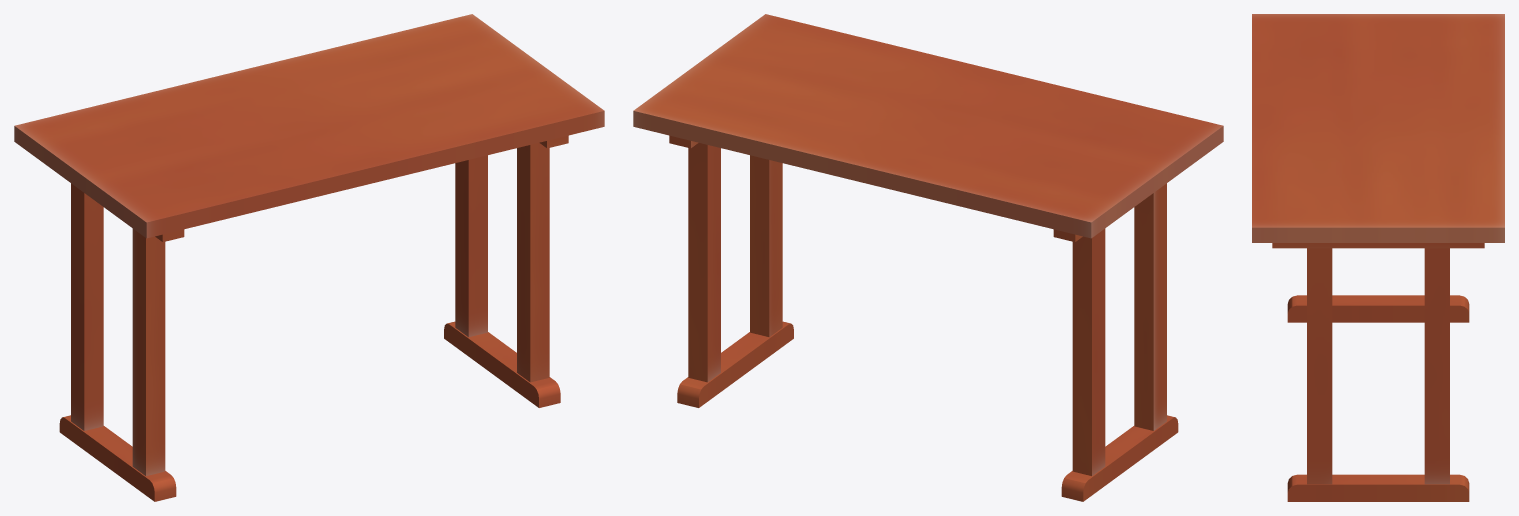
The model's file is table.obj.
The picture shows the model from 3 angles, left to right: view 1: azimuth 30°, elevation 25°; view 2: azimuth 150°, elevation 25°; view 3: azimuth 270°, elevation 25°; orthographic projection. The views are drawn at different scales.
Visible parts, largest first — view 1: _Table1:group1 group62 _Table1:pCube1, _Table1:group1 group62 _Table1:pCube11, _Table1:group1 group62 _Table1:pCube2, _Table1:group1 group62 _Table1:pCube12, _Table1:pCube3 _Table1:group1 group62, _Table1:group1 group62 _Table1:pCube13, _Table1:group1 group62 _Table1:pCube10; view 2: _Table1:group1 group62 _Table1:pCube1, _Table1:group1 group62 _Table1:pCube12, _Table1:pCube3 _Table1:group1 group62, _Table1:group1 group62 _Table1:pCube11, _Table1:group1 group62 _Table1:pCube2, _Table1:group1 group62 _Table1:pCube13, _Table1:group1 group62 _Table1:pCube10; view 3: _Table1:group1 group62 _Table1:pCube1, _Table1:pCube3 _Table1:group1 group62, _Table1:group1 group62 _Table1:pCube2, _Table1:group1 group62 _Table1:pCube10, _Table1:group1 group62 _Table1:pCube13, _Table1:group1 group62 _Table1:pCube8.
Boxes of the visible parts, bbox=[...] form: _Table1:group1 group62 _Table1:pCube1: bbox=[14, 14, 604, 238]; _Table1:group1 group62 _Table1:pCube11: bbox=[132, 228, 165, 475]; _Table1:group1 group62 _Table1:pCube2: bbox=[517, 143, 549, 382]; _Table1:group1 group62 _Table1:pCube12: bbox=[71, 183, 103, 430]; _Table1:pCube3 _Table1:group1 group62: bbox=[455, 155, 487, 337]; _Table1:group1 group62 _Table1:pCube13: bbox=[59, 415, 176, 501]; _Table1:group1 group62 _Table1:pCube10: bbox=[444, 321, 560, 407]; _Table1:group1 group62 _Table1:pCube1: bbox=[633, 14, 1223, 238]; _Table1:group1 group62 _Table1:pCube12: bbox=[1072, 228, 1105, 475]; _Table1:pCube3 _Table1:group1 group62: bbox=[688, 143, 720, 382]; _Table1:group1 group62 _Table1:pCube11: bbox=[1134, 183, 1166, 430]; _Table1:group1 group62 _Table1:pCube2: bbox=[750, 155, 782, 337]; _Table1:group1 group62 _Table1:pCube13: bbox=[1061, 415, 1178, 501]; _Table1:group1 group62 _Table1:pCube10: bbox=[677, 321, 793, 407]; _Table1:group1 group62 _Table1:pCube1: bbox=[1252, 14, 1504, 242]; _Table1:pCube3 _Table1:group1 group62: bbox=[1424, 248, 1449, 484]; _Table1:group1 group62 _Table1:pCube2: bbox=[1307, 248, 1332, 484]; _Table1:group1 group62 _Table1:pCube10: bbox=[1287, 474, 1469, 501]; _Table1:group1 group62 _Table1:pCube13: bbox=[1287, 295, 1469, 322]; _Table1:group1 group62 _Table1:pCube8: bbox=[1272, 243, 1484, 248].
Bounding box in the file's own units: 120 × 75 × 60.
